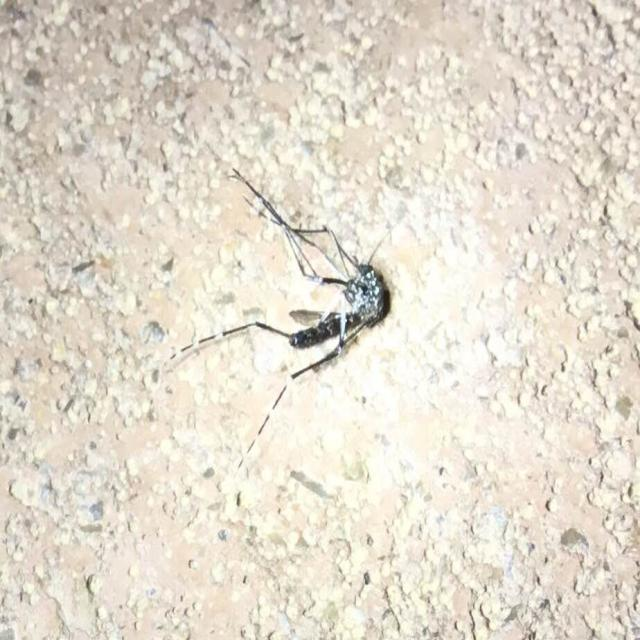albopictus: (164, 158, 410, 485)
